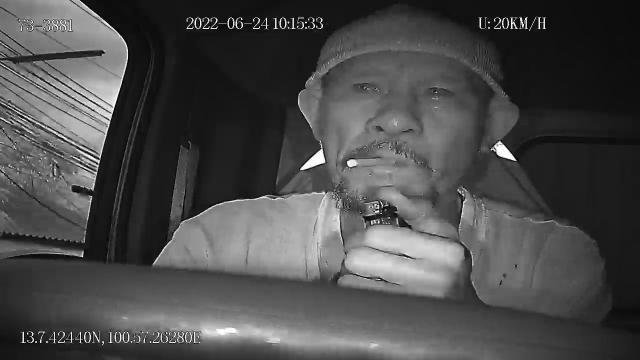SafeDriving: (416, 74, 465, 110), (342, 68, 391, 100)
Smoking: (346, 151, 402, 171)
